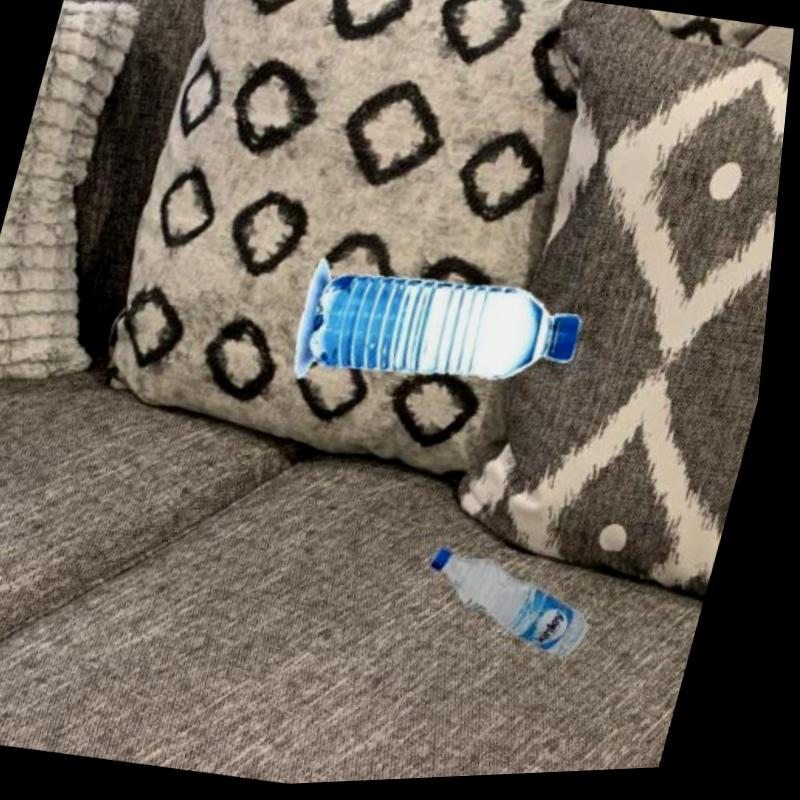botella: (309, 259, 600, 409), (423, 547, 619, 670)
